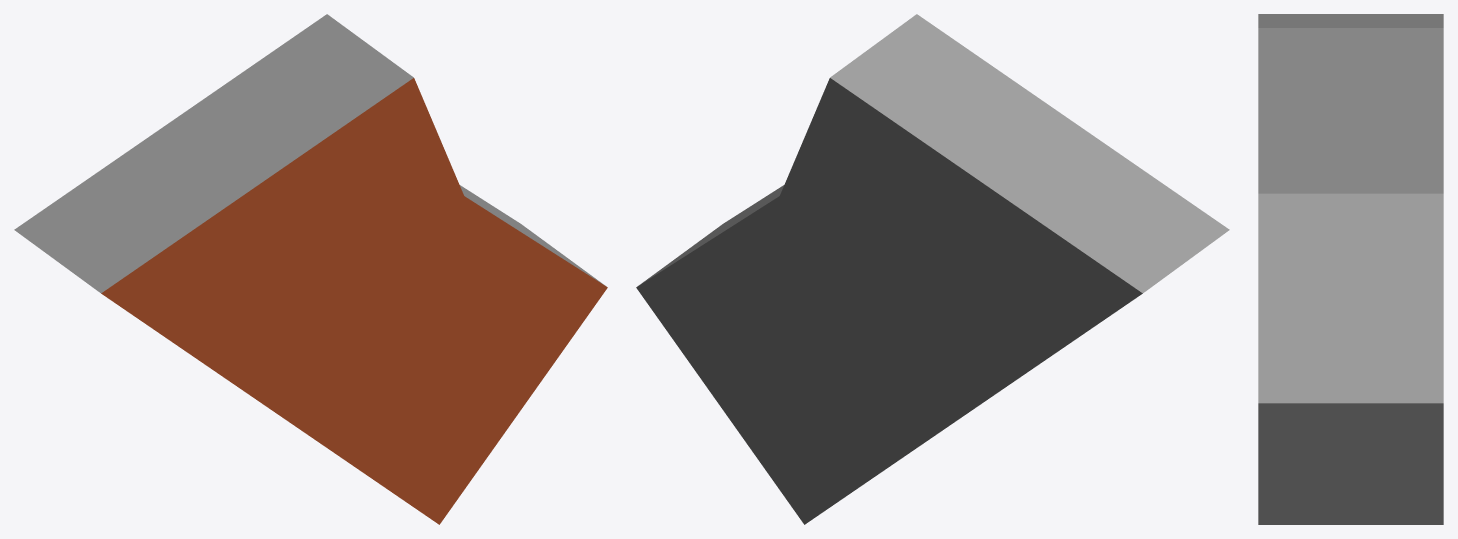
Rendered from construction_4465_assumed_A_Casa_h6m.obj.
3 renders of one model, left to right at view 1: azimuth 30°, elevation 25°; view 2: azimuth 150°, elevation 25°; view 3: azimuth 270°, elevation 25°, orthographic. The views are drawn at different scales.
Visible parts, largest first — view 1: construction_4465_assumed_A_Casa; view 2: construction_4465_assumed_A_Casa; view 3: construction_4465_assumed_A_Casa.
Boxes of the visible parts, bbox=[...] form: construction_4465_assumed_A_Casa: bbox=[14, 14, 607, 524]; construction_4465_assumed_A_Casa: bbox=[636, 14, 1229, 524]; construction_4465_assumed_A_Casa: bbox=[1258, 14, 1443, 524].
Size of the model in its own units: 20.19 by 17.26 by 6.
